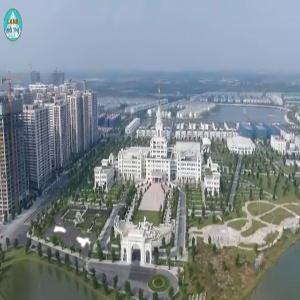drone: (6, 170, 135, 299)
